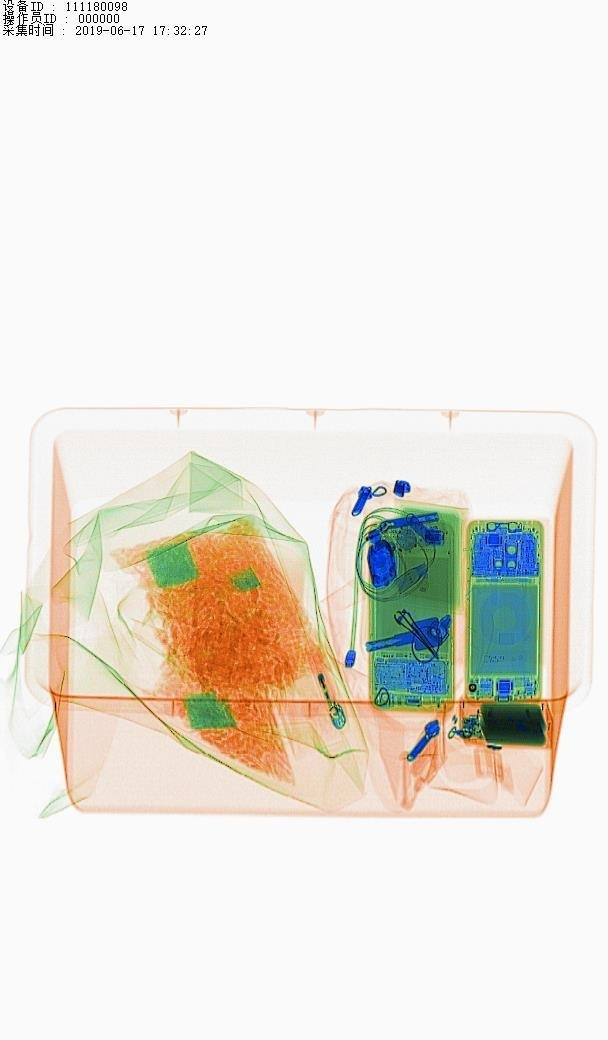NonmetallicFire: (278, 622, 372, 757)
